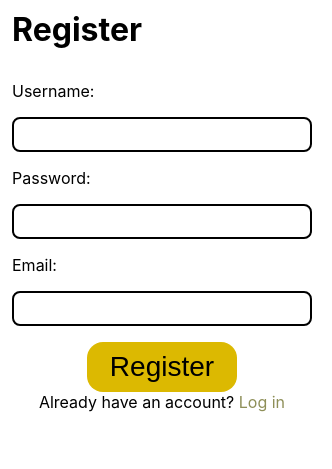
Test: Given a Register form component › When it is rendered and the user types in the username 'pokachu', password 'pokachu' and clicks 'Register' › Then a text with '"email" is not allowed to be empty' should show on the screen
Type "pokachu" into the field labelled "Username:" at (162, 134), box [12,117,312,152]
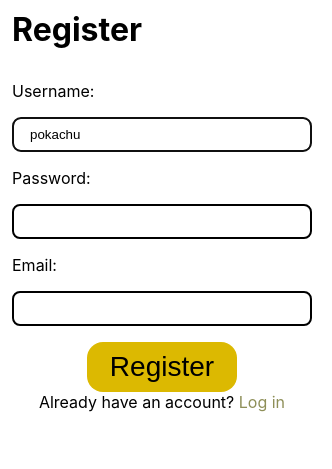
Type "pokachu" into the password field labelled "Password:" at (162, 222), box [12,204,312,239]
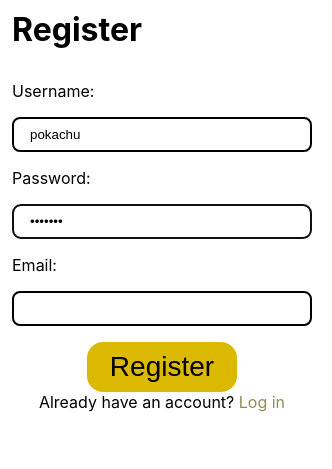
Click the button "Register" at (162, 367), box [87,342,237,392]
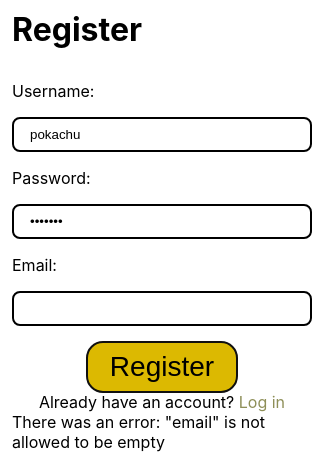
Expected: the text "There was an error: \"email\" is not allowed to be empty" is shown, [12,412,265,452]
